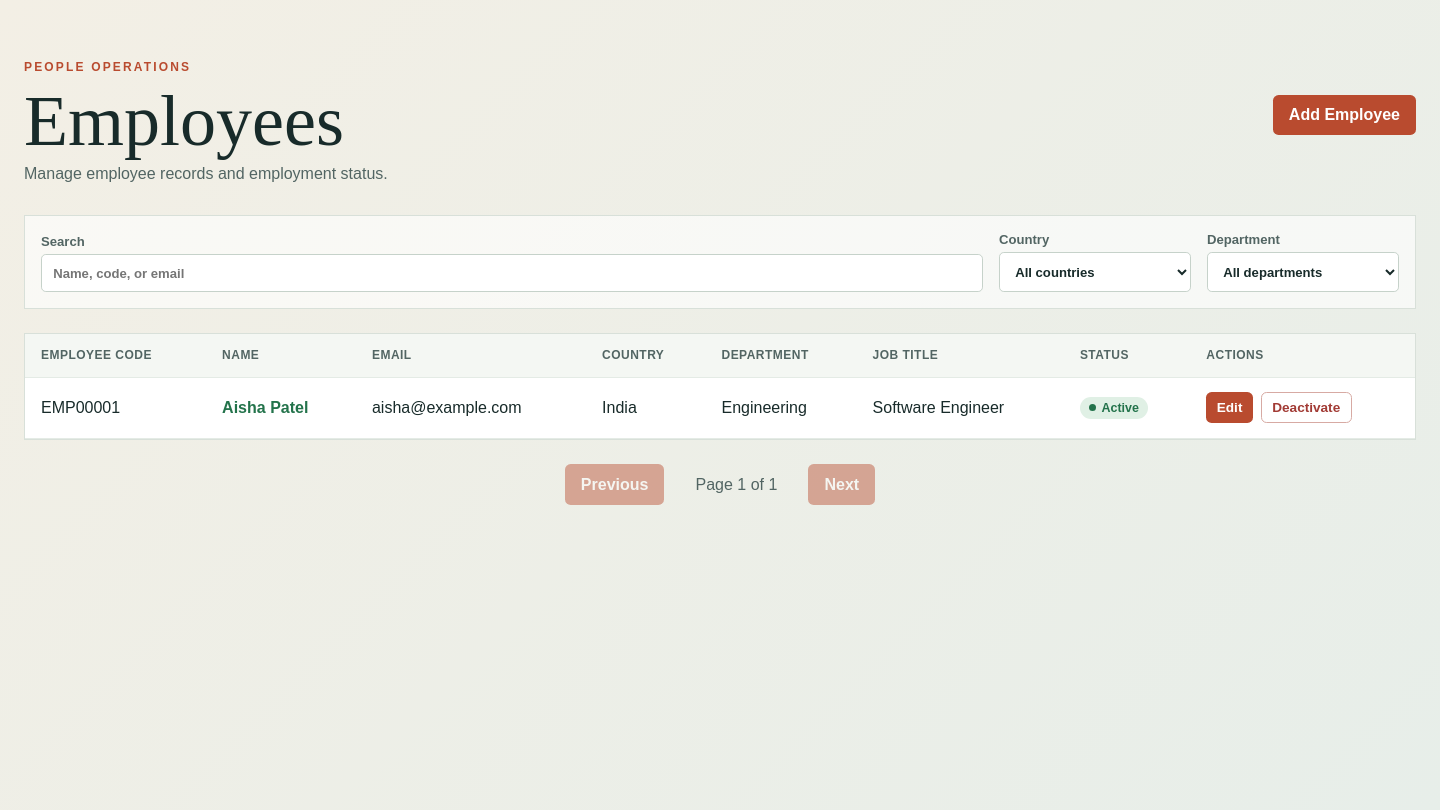
EmployeesPage › validates required fields before creating an employee
This screenshot has width=1440, height=810.
Expected: the text "EMP00001" is shown, [25, 377, 206, 439]
Click the button "Add Employee" at (1344, 115), box [1273, 95, 1416, 136]
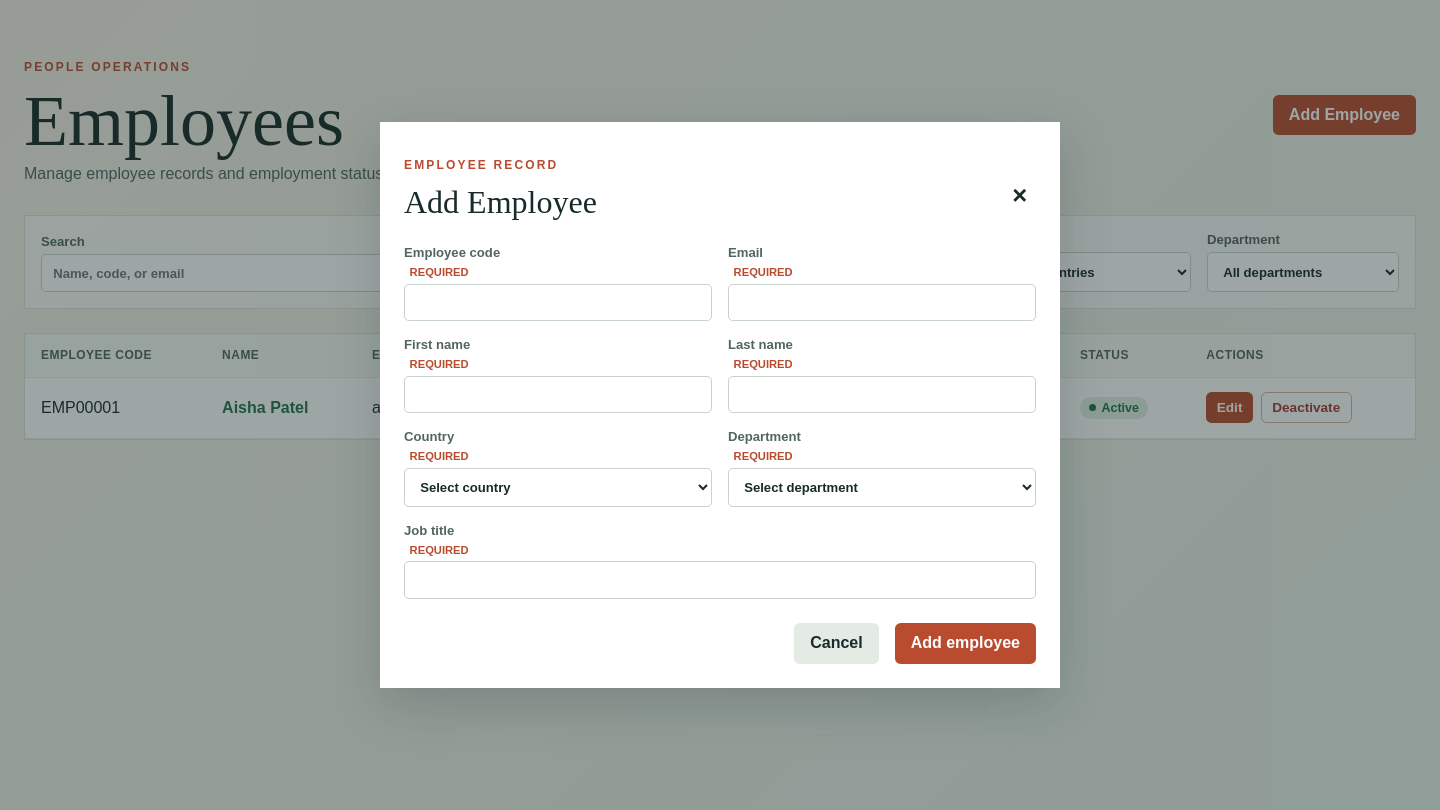
Click the button "Add employee" at (965, 644), box [895, 623, 1036, 664]
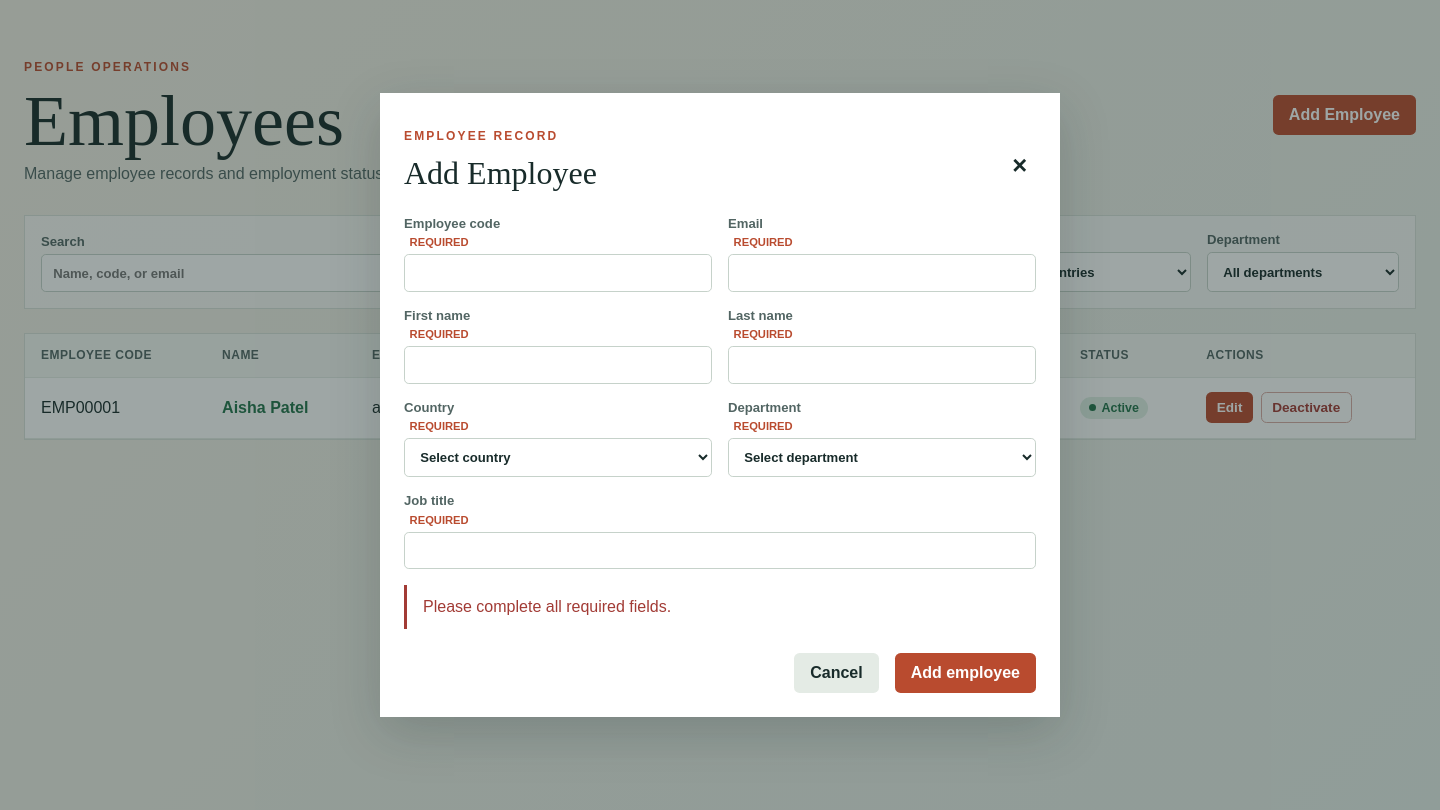
Result: the message reads "Please complete all required fields." at [423, 598, 671, 615]
